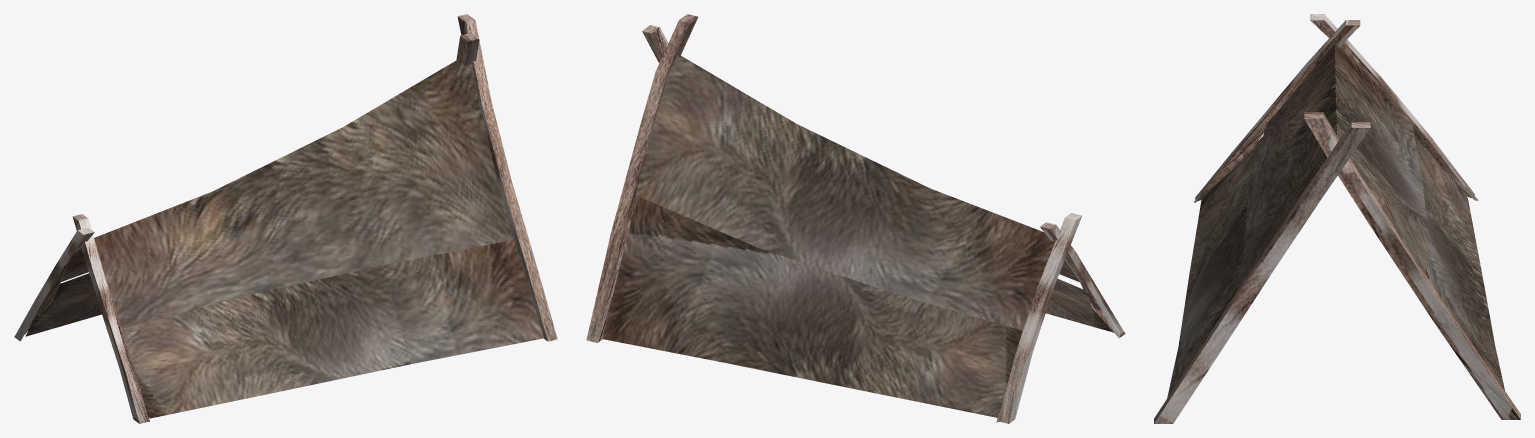
The model's file is palatka.fbx.
The picture shows the model from 3 angles, left to right: view 1: azimuth 30°, elevation 25°; view 2: azimuth 150°, elevation 25°; view 3: azimuth 270°, elevation 25°; orthographic projection. The views are drawn at different scales.
Visible parts, largest first — view 1: Cube.005, Cube, Cube.001, Cube.003, Cube.004, Cube.002; view 2: Cube.005, Cube, Cube.002, Cube.004, Cube.003, Cube.001; view 3: Cube.005, Cube, Cube.001, Cube.002, Cube.003, Cube.004.
Boxes of the visible parts, box(x1,y1,x2,y2) form: Cube.005: box(61, 58, 513, 328); Cube: box(25, 240, 543, 418); Cube.001: box(457, 14, 557, 341); Cube.003: box(72, 214, 149, 423); Cube.004: box(14, 227, 94, 341); Cube.002: box(456, 33, 479, 65); Cube.005: box(635, 54, 1079, 330); Cube: box(602, 196, 1113, 417); Cube.002: box(586, 14, 697, 342); Cube.004: box(996, 213, 1081, 423); Cube.003: box(1040, 222, 1125, 338); Cube.001: box(642, 25, 668, 62); Cube.005: box(1235, 44, 1429, 293); Cube: box(1167, 127, 1511, 419); Cube.001: box(1154, 122, 1370, 423); Cube.002: box(1304, 112, 1520, 419); Cube.003: box(1194, 20, 1360, 202); Cube.004: box(1310, 14, 1478, 200).
Bounding box in the file's own units: 445 × 266 × 297.
Materials: 1 (1 with a texture image).
